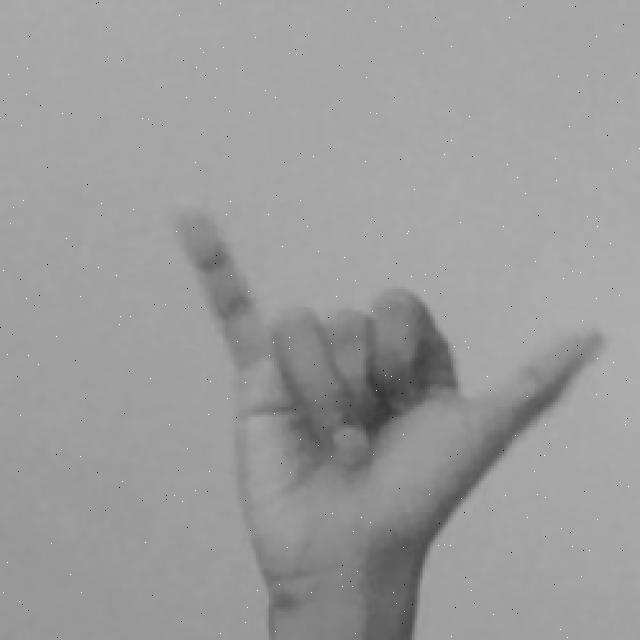Y: (161, 187, 611, 640)
